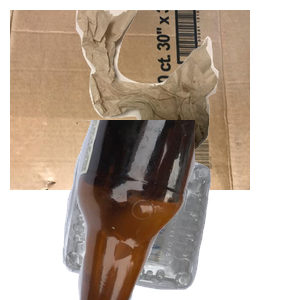cardboard: (10, 10, 250, 190)
glass: (60, 120, 300, 300)
plastic: (60, 141, 263, 300)
trash: (73, 10, 300, 163)
